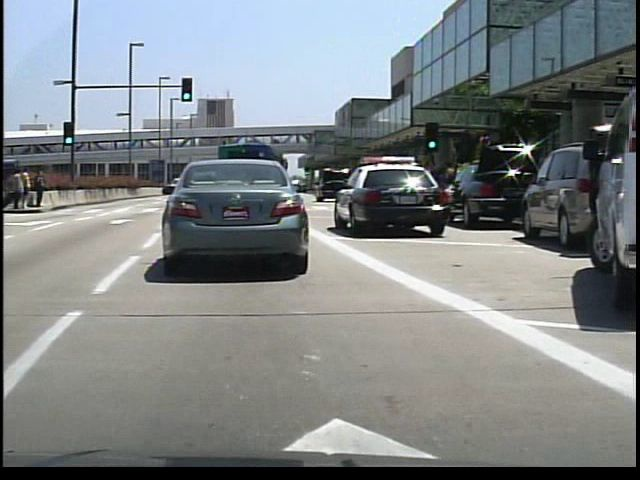person: (8, 168, 23, 213), (32, 166, 46, 210), (19, 163, 30, 211)
